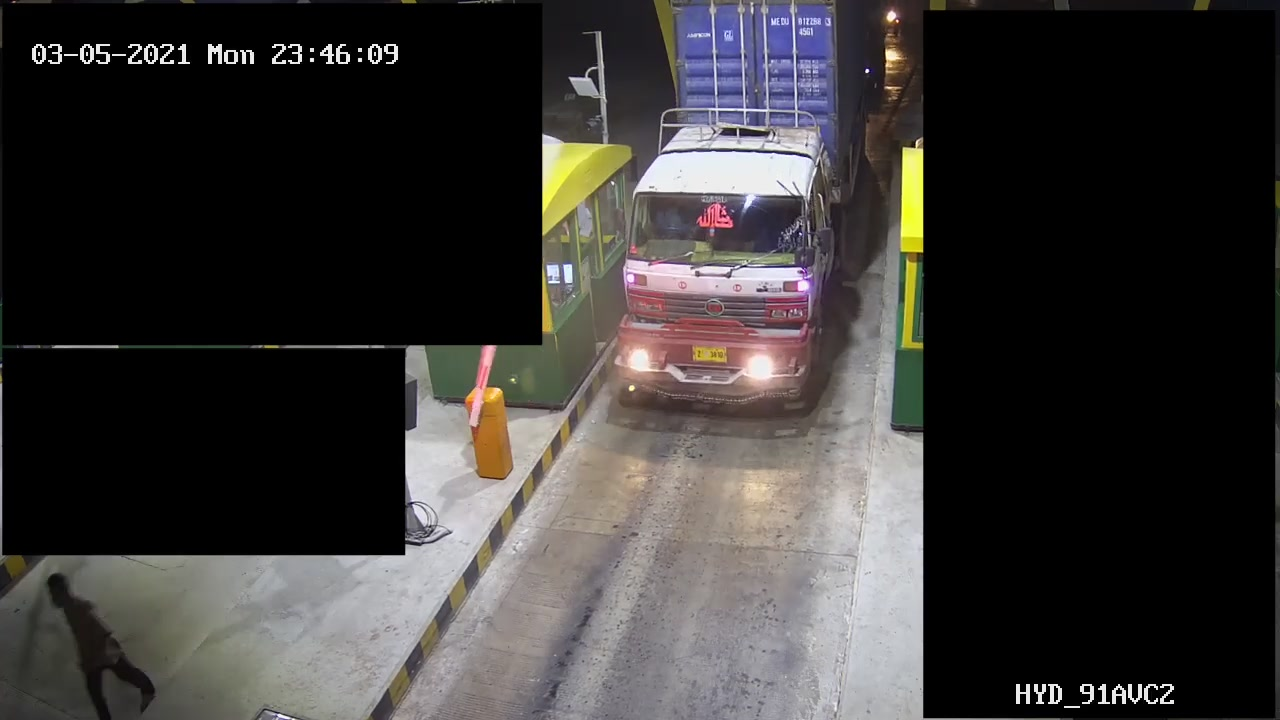F6: (604, 1, 867, 422)
